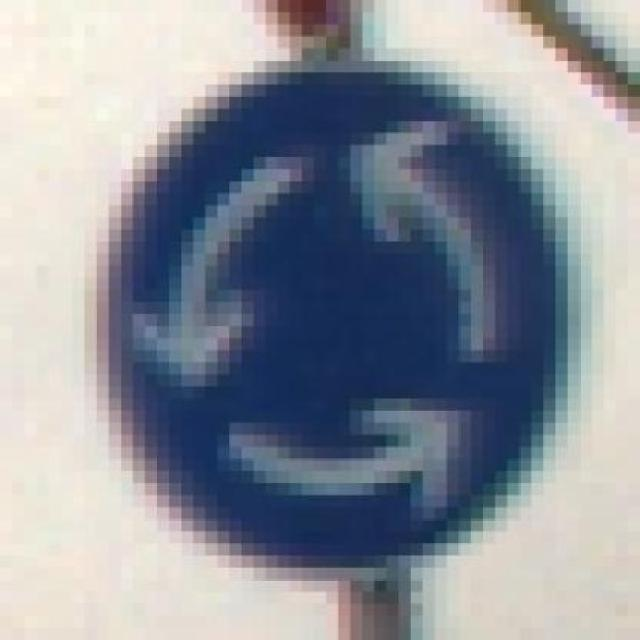Round-About: (61, 49, 616, 592)
